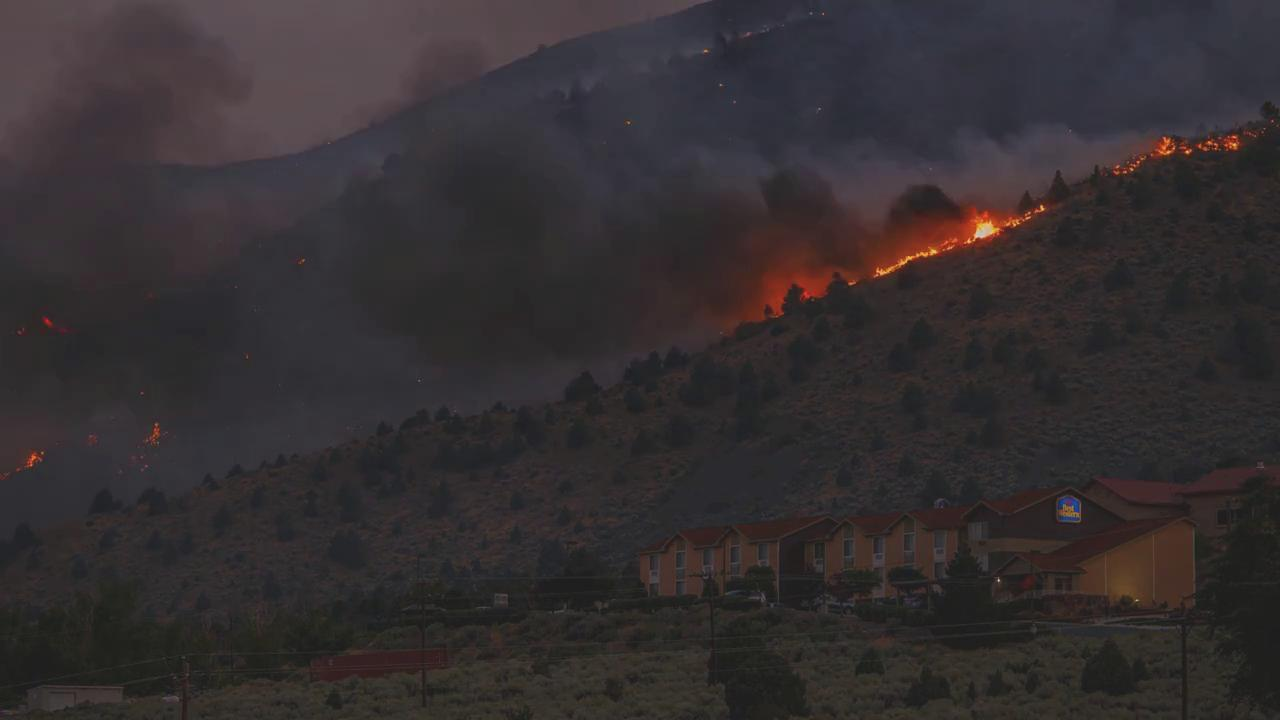fire: (1116, 134, 1244, 171), (965, 204, 1046, 246), (871, 247, 939, 275), (142, 420, 166, 444), (21, 450, 41, 471)
